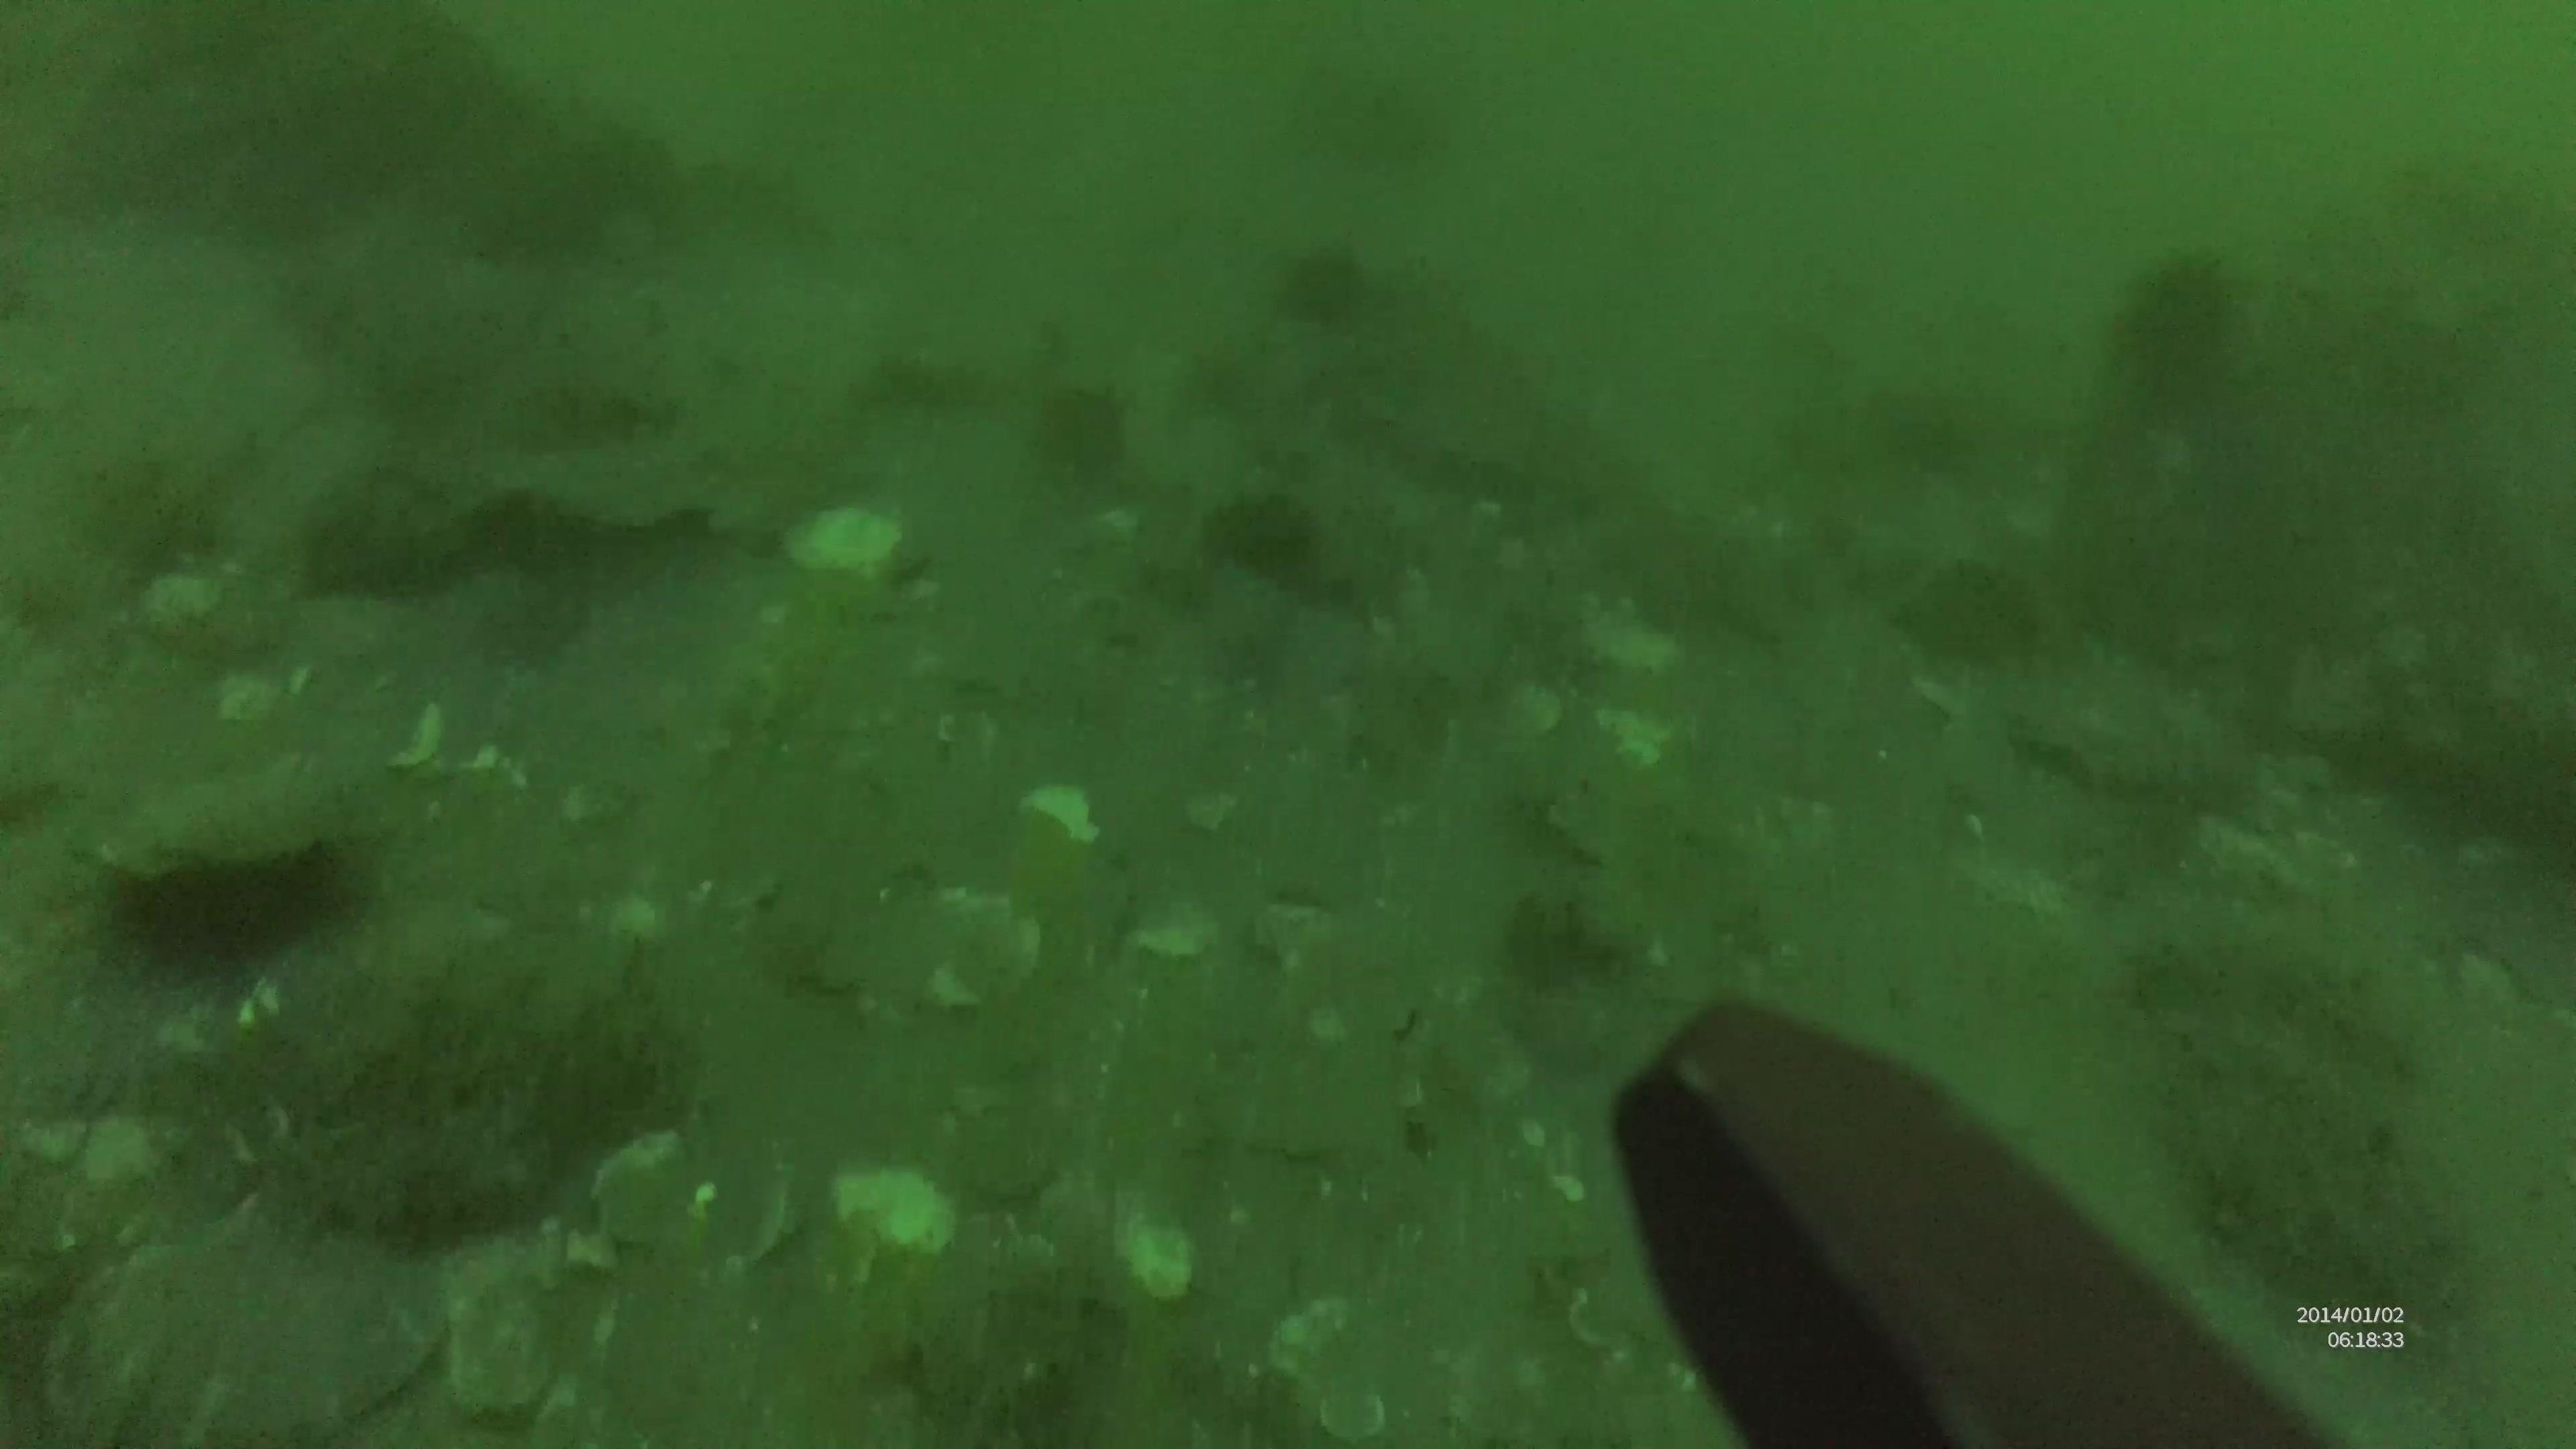echinus: (2123, 242, 2229, 395), (1208, 487, 1322, 586), (1039, 386, 1134, 485), (1276, 241, 1364, 318)
